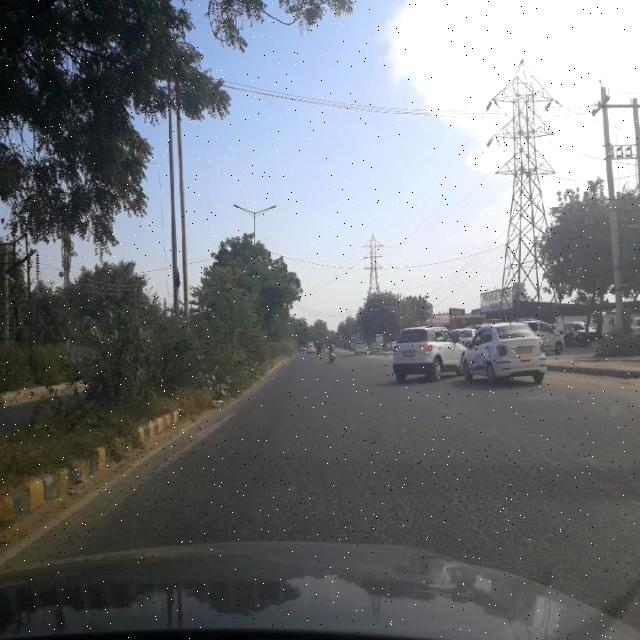D20: (199, 426, 578, 540)
